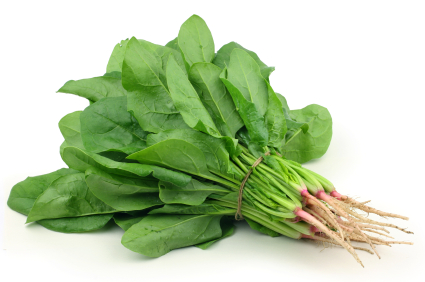Bayam: (8, 8, 418, 272)
